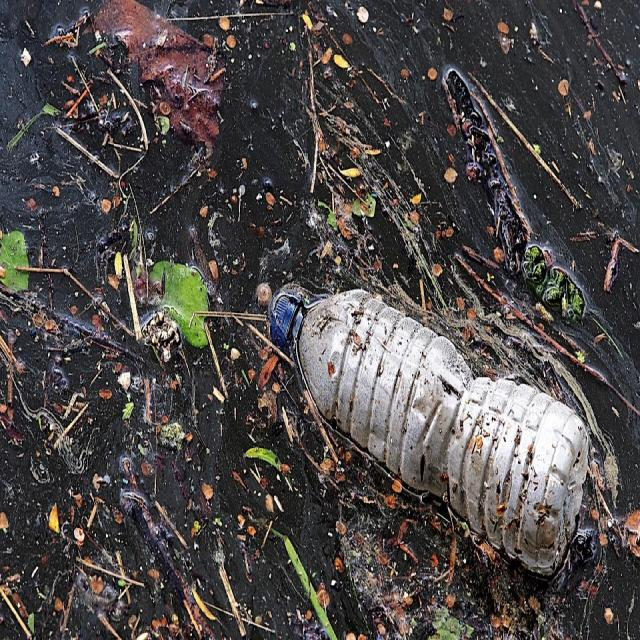bottle: (250, 250, 612, 592)
